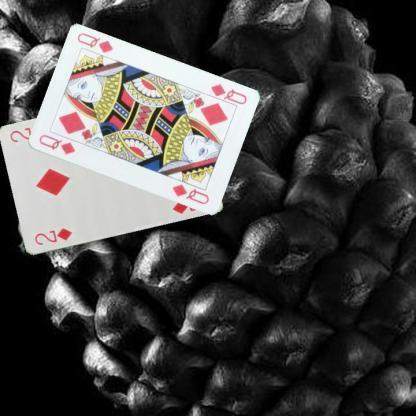2d: (31, 225, 74, 247)
Qd: (202, 82, 248, 108), (36, 132, 76, 156)
